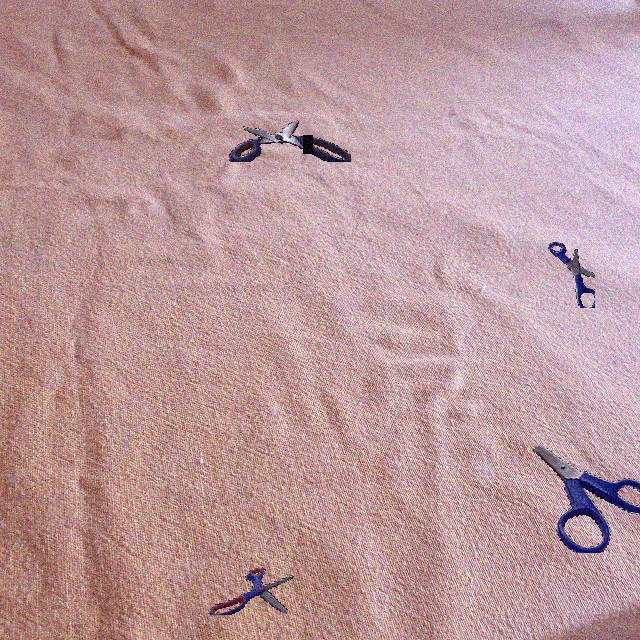scissors: (533, 444, 640, 553), (229, 120, 351, 162), (208, 567, 294, 615), (548, 242, 595, 308)
